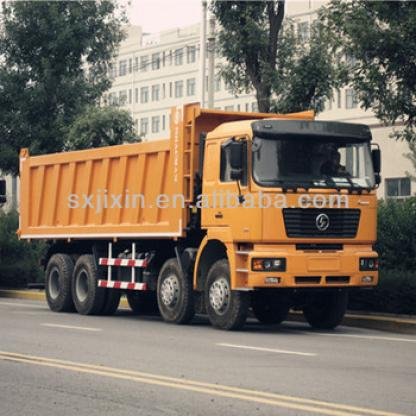dump_truck: (14, 105, 392, 338)
